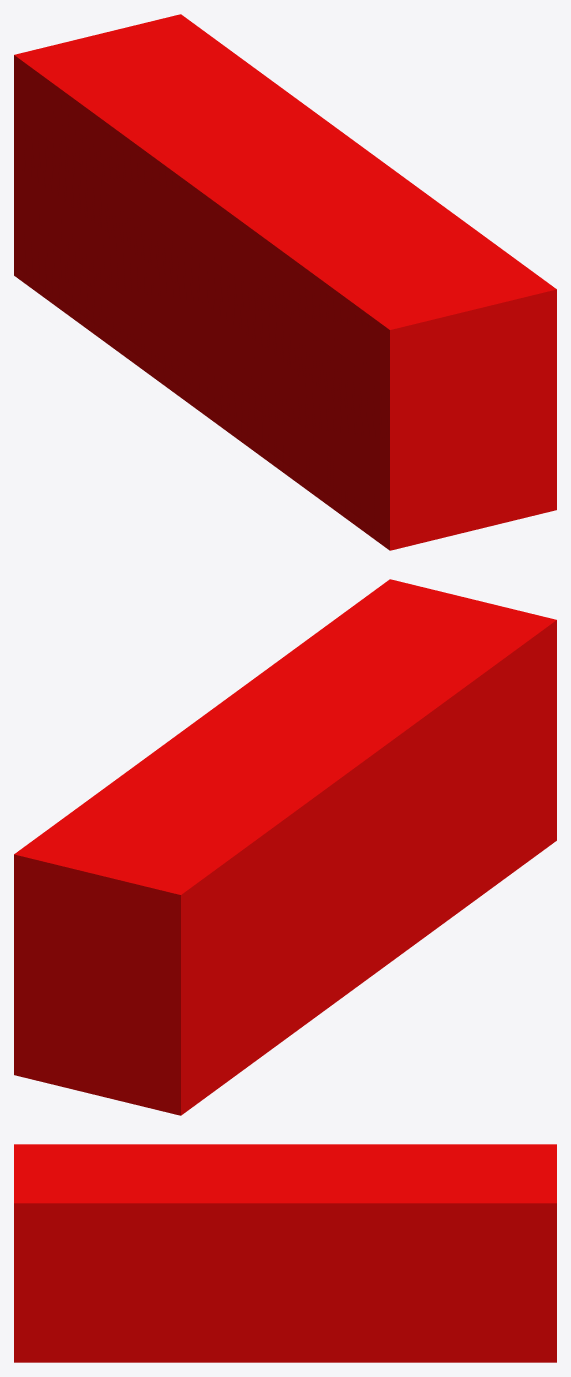
The model's file is fingers7_col.dae.
3 renders of one model, top to bottom at view 1: azimuth 30°, elevation 25°; view 2: azimuth 150°, elevation 25°; view 3: azimuth 270°, elevation 25°, orthographic. The views are drawn at different scales.
Parts seen in each view (by area): view 1: node0; view 2: node0; view 3: node0.
Boxes of the visible parts, bbox=[...] form: node0: bbox=[14, 14, 556, 550]; node0: bbox=[14, 579, 556, 1115]; node0: bbox=[14, 1144, 556, 1362].
Size of the model in its own units: 0.0139 by 0.0176 by 0.0543.
